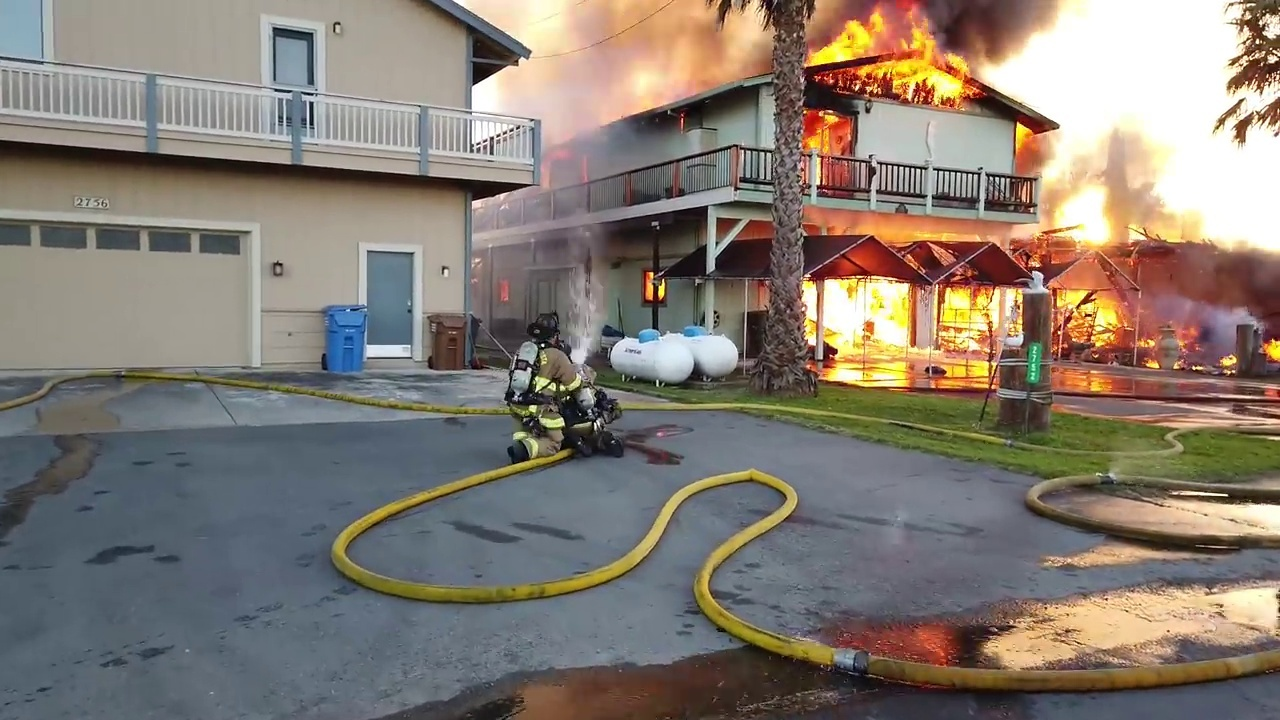fire: (818, 1, 975, 101), (826, 281, 1021, 358), (1055, 288, 1118, 352), (1170, 339, 1234, 381), (1059, 188, 1113, 237), (800, 110, 858, 154), (537, 150, 591, 187), (1009, 121, 1037, 157), (642, 272, 669, 304), (1139, 336, 1164, 370), (489, 276, 514, 304), (1259, 338, 1279, 361), (1129, 221, 1150, 237)
smoke: (1047, 6, 1280, 246), (517, 1, 773, 74), (1149, 246, 1277, 337), (951, 1, 1094, 73), (498, 79, 658, 139)
